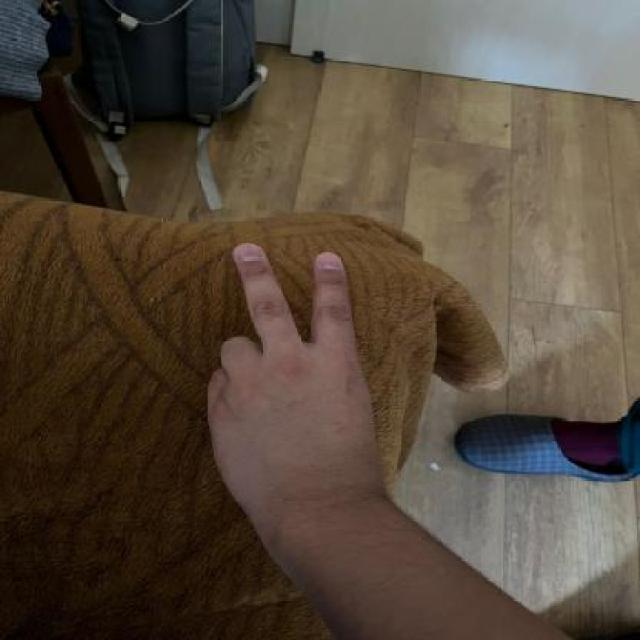V: (199, 228, 386, 501)
